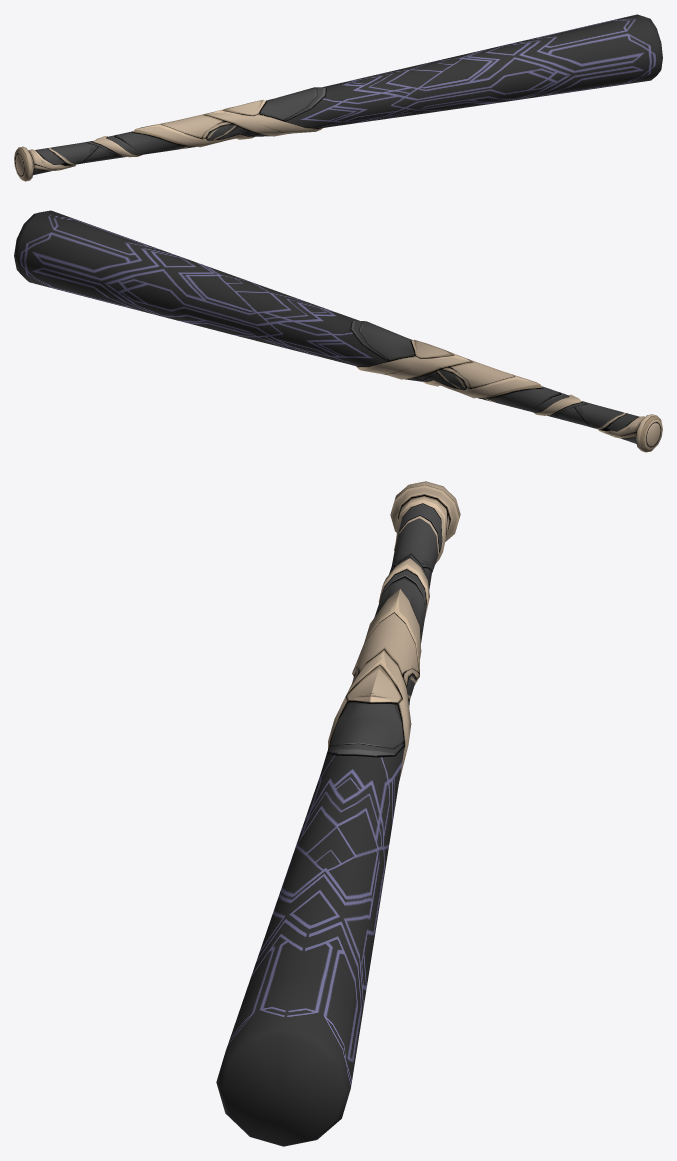
The model's file is bate.obj.
The picture shows the model from 3 angles, top to bottom: view 1: azimuth 30°, elevation 25°; view 2: azimuth 150°, elevation 25°; view 3: azimuth 270°, elevation 25°; orthographic projection. The views are drawn at different scales.
Parts seen in each view (by area): view 1: 球棒_mesh; view 2: 球棒_mesh; view 3: 球棒_mesh.
Boxes of the visible parts, <box> form: 球棒_mesh: <box>14,14,662,181</box>; 球棒_mesh: <box>14,210,662,452</box>; 球棒_mesh: <box>216,481,460,1146</box>.
Size of the model in its own units: 1.46 by 0.1432 by 0.2586.
Materials: 1 (1 with a texture image).
